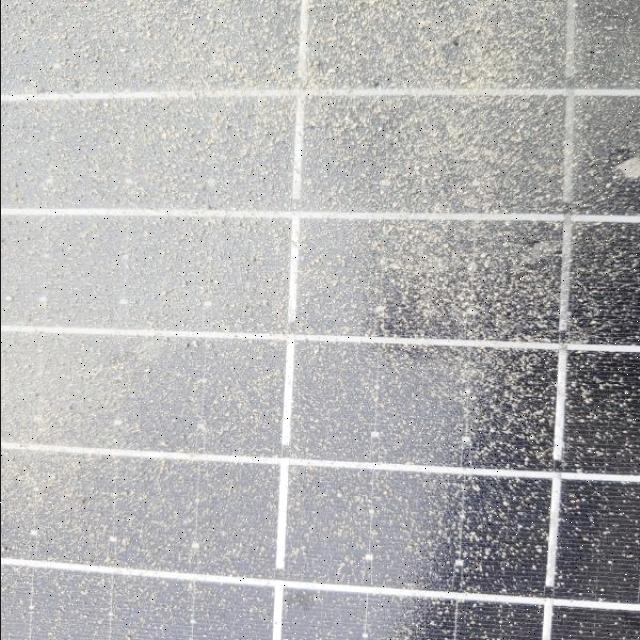Surface Contaminant: (30, 9, 640, 631)
